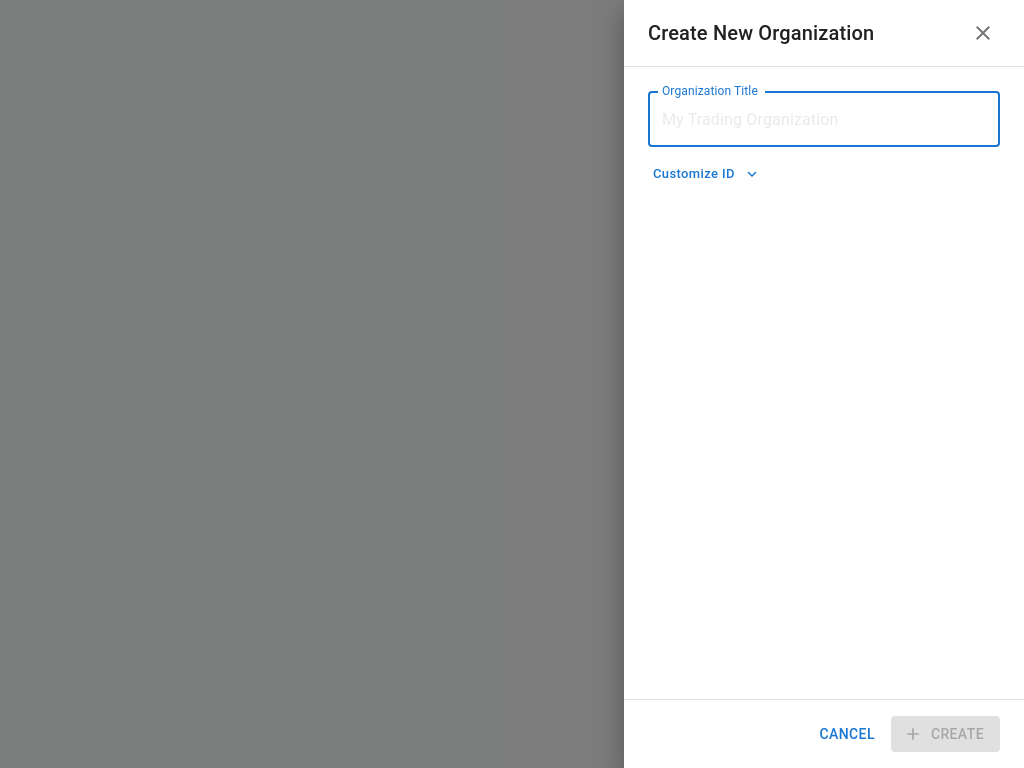
Scenario: CreateOrganizationDrawer › custom ID › shows ID input field when advanced section is open
This screenshot has width=1024, height=768.
Type "My Organization" into the field labelled "Organization Title" at (824, 119), box [648,91,1000,147]
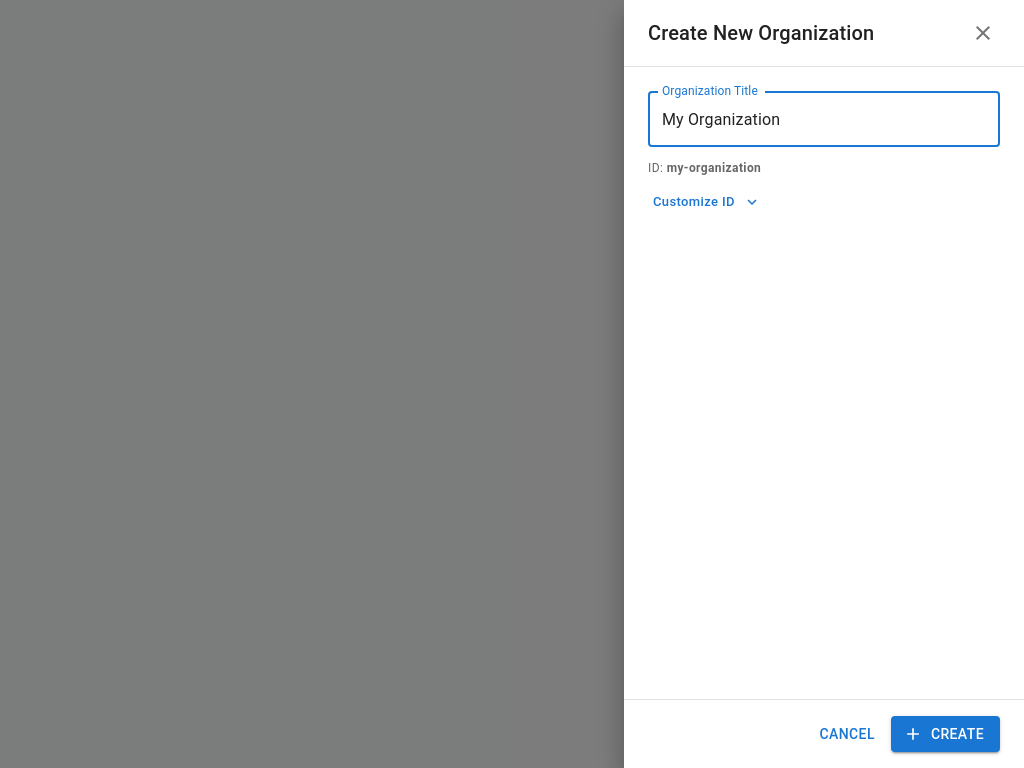
Open advanced section
Click the button "Customize ID" at (706, 202), box [648,187,764,218]
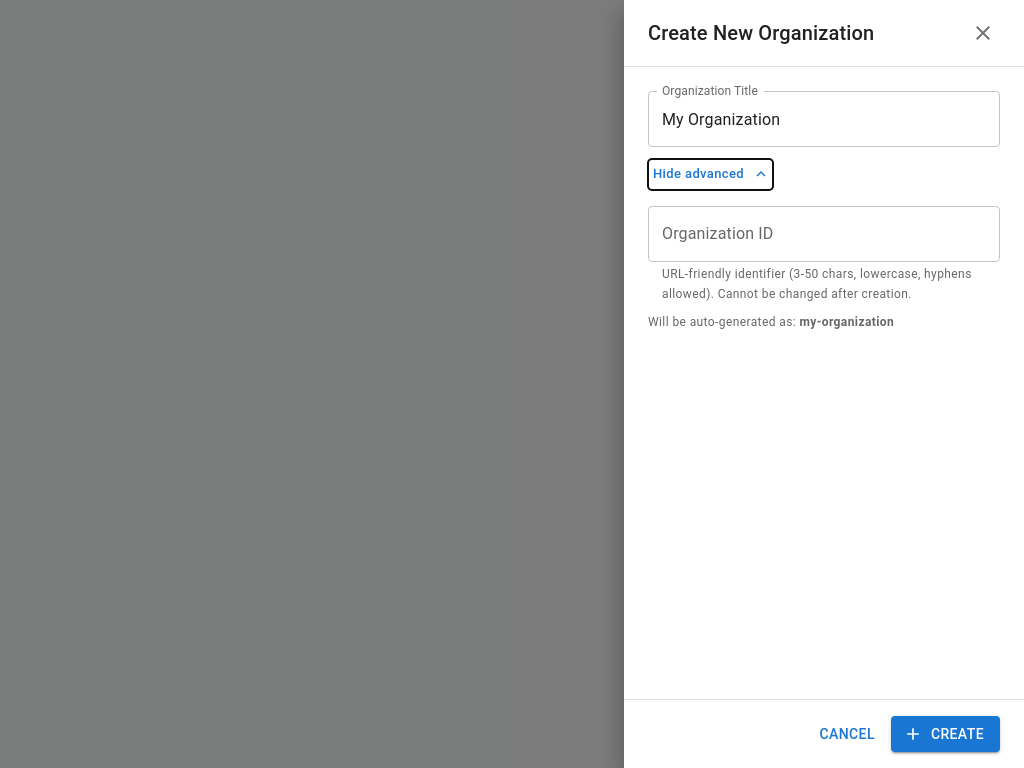
Expected: the field labelled "Organization ID" is shown, [648,206,1000,262]
Expected: the text "Will be auto-generated as: my-organization" is shown, [648,315,894,329]
